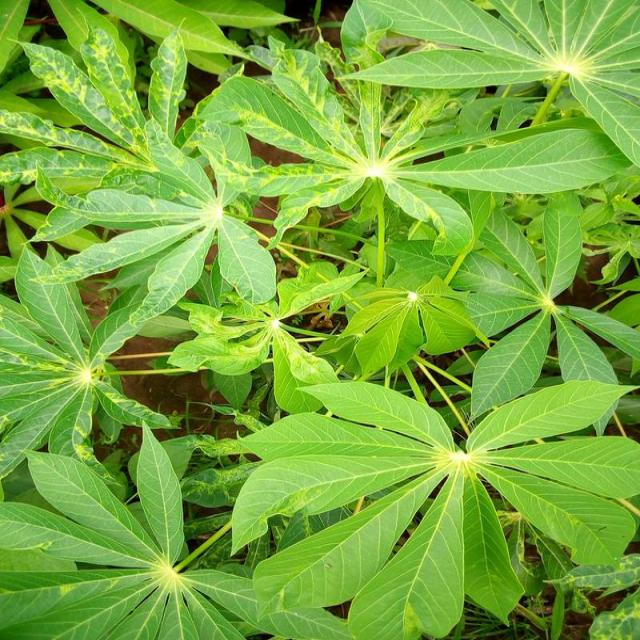cassava leaf: (1, 2, 638, 637), (229, 373, 638, 637)
